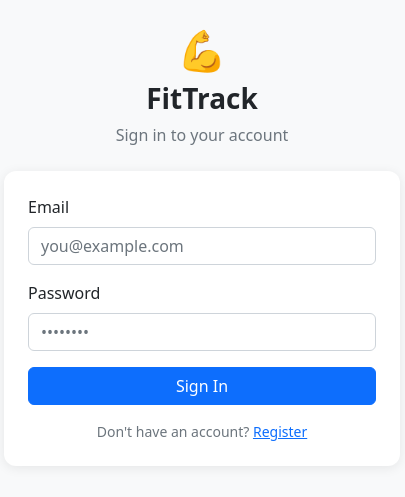
Scenario: Login Component › shows validation error for invalid email format
In the field with placeholder "you@example.com": (202, 246) [28, 227, 376, 265], type "not-an-email"
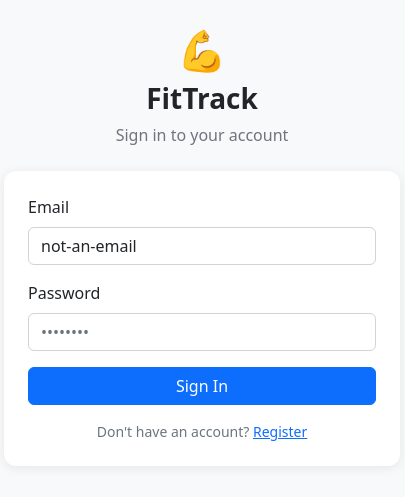
Leave the field with placeholder "you@example.com", box [28, 227, 376, 265]
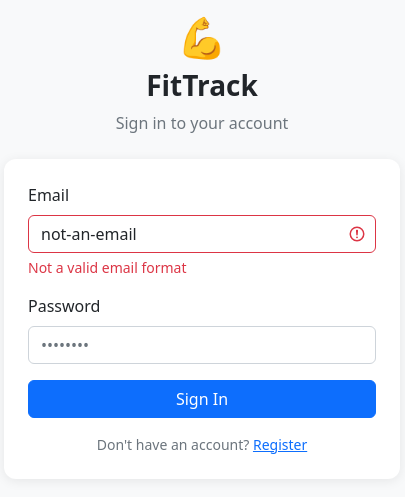
Expected: the text "Not a valid email format" is shown, [28, 258, 186, 277]
